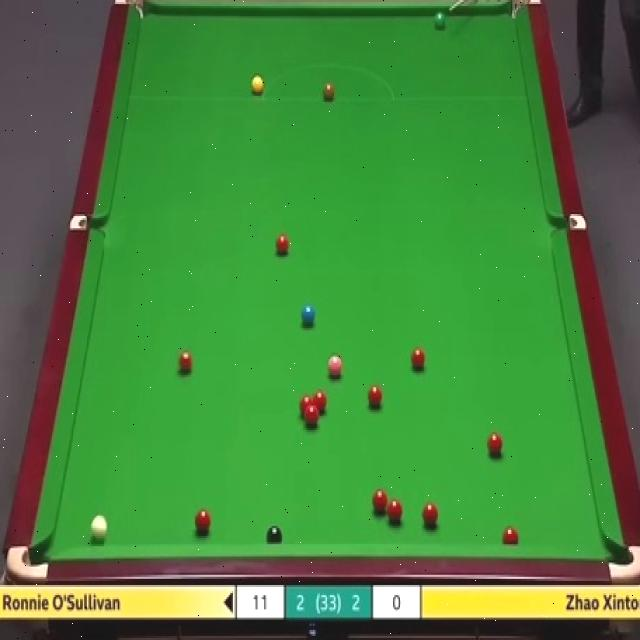black-ball: (266, 522, 284, 546)
blue-ball: (300, 304, 316, 329)
brown-ball: (321, 80, 335, 103)
green-ball: (432, 11, 448, 31)
pink-ball: (328, 351, 343, 379)
red-ball: (386, 497, 404, 528), (421, 502, 438, 530), (176, 350, 193, 378), (409, 346, 426, 374), (372, 488, 388, 515), (486, 431, 502, 457), (367, 384, 382, 410), (196, 508, 211, 534), (313, 391, 328, 416), (275, 233, 290, 257), (503, 525, 519, 546), (305, 408, 319, 428), (300, 395, 313, 416)
white-ball: (88, 514, 107, 543)
yellow-ball: (249, 74, 264, 95)
